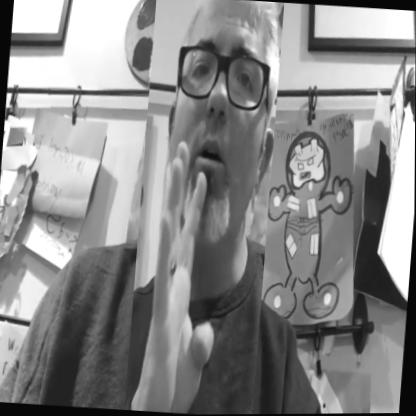Talk: (126, 0, 284, 415)
